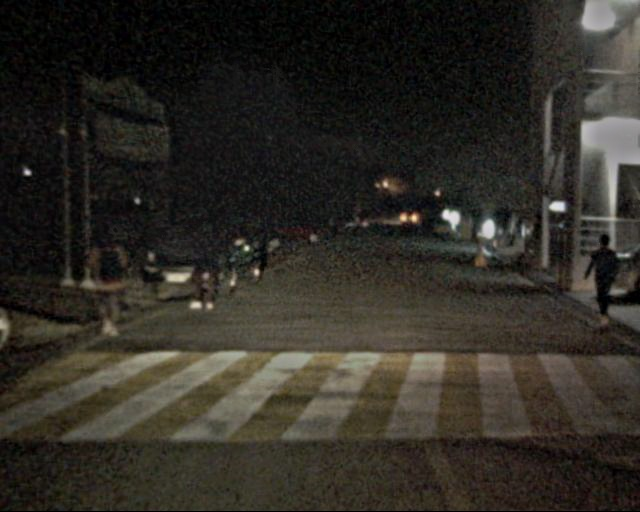person: (88, 225, 139, 339), (583, 234, 625, 325), (188, 221, 228, 311)
